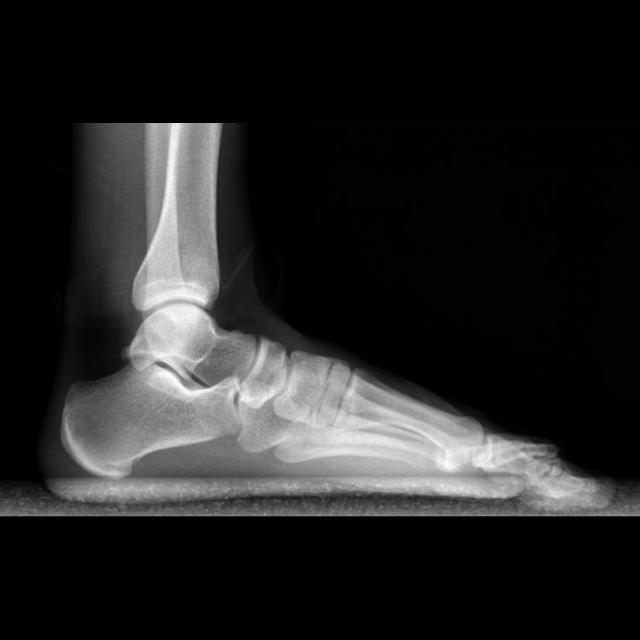a: (61, 366, 239, 477)
b: (239, 338, 288, 410)
c: (335, 372, 483, 471)
